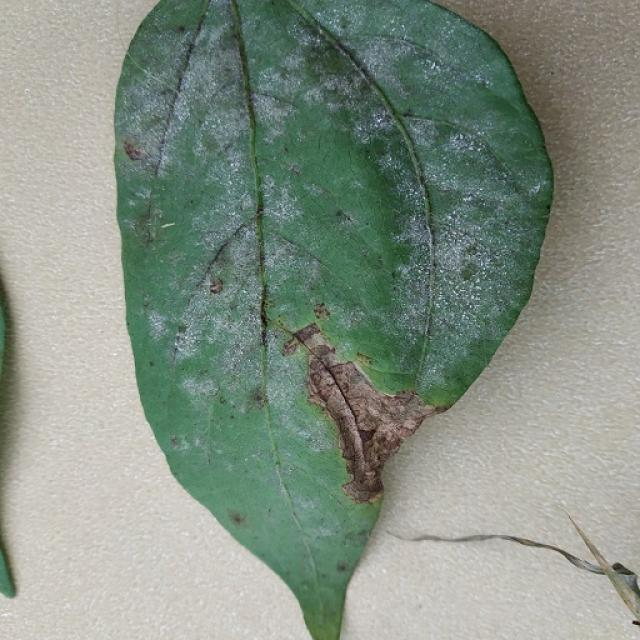Blackgram: (115, 0, 551, 639)
Powdery_Mildew: (264, 0, 413, 142), (267, 410, 322, 633), (426, 110, 533, 214), (137, 46, 225, 152), (225, 0, 262, 234), (244, 1, 332, 78), (256, 226, 342, 301), (270, 153, 358, 222), (193, 223, 254, 298), (256, 263, 275, 470), (120, 41, 183, 97), (280, 320, 340, 376), (199, 372, 217, 484), (255, 219, 268, 349), (252, 89, 310, 116), (180, 37, 199, 71)
